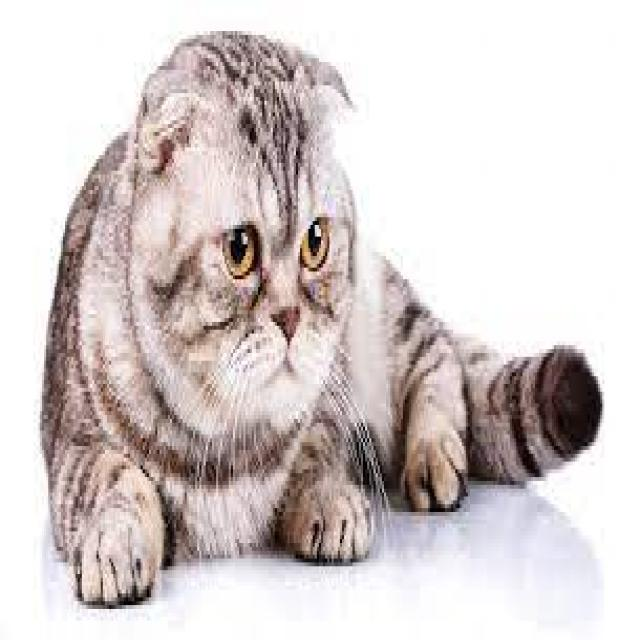cat-face: (113, 8, 410, 449)
